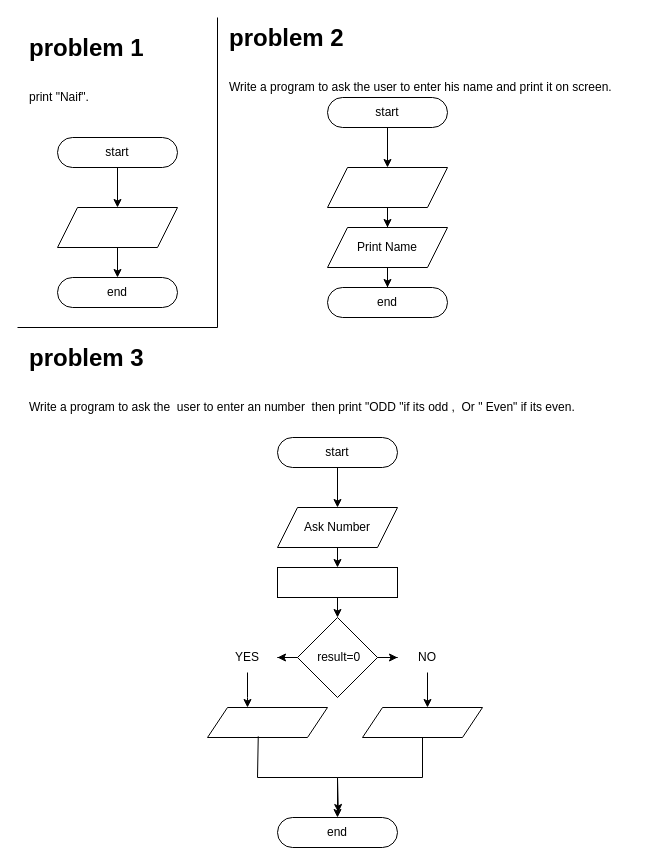
Image size: 645x865. Some labels were removed from this diagram. The centre of each missing label's shape, as x and y in pixels:
Ask Name: (x=387, y=187)
Print "Even": (x=267, y=722)
print "Naif": (x=117, y=227)
Print "ODD": (x=422, y=722)
result = Num mod 2: (x=337, y=582)
